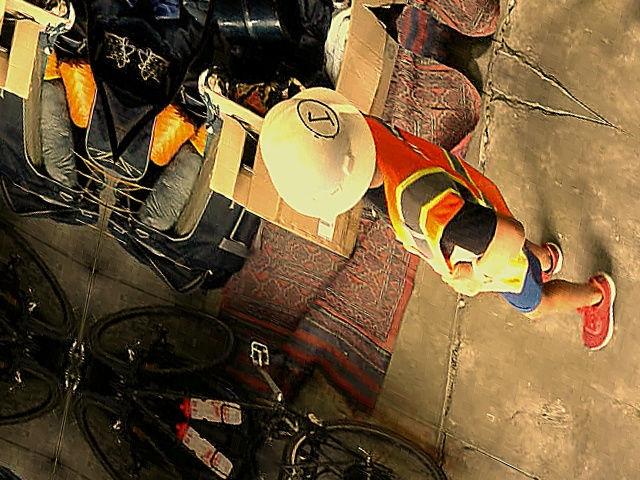one: (292, 91, 340, 143)
